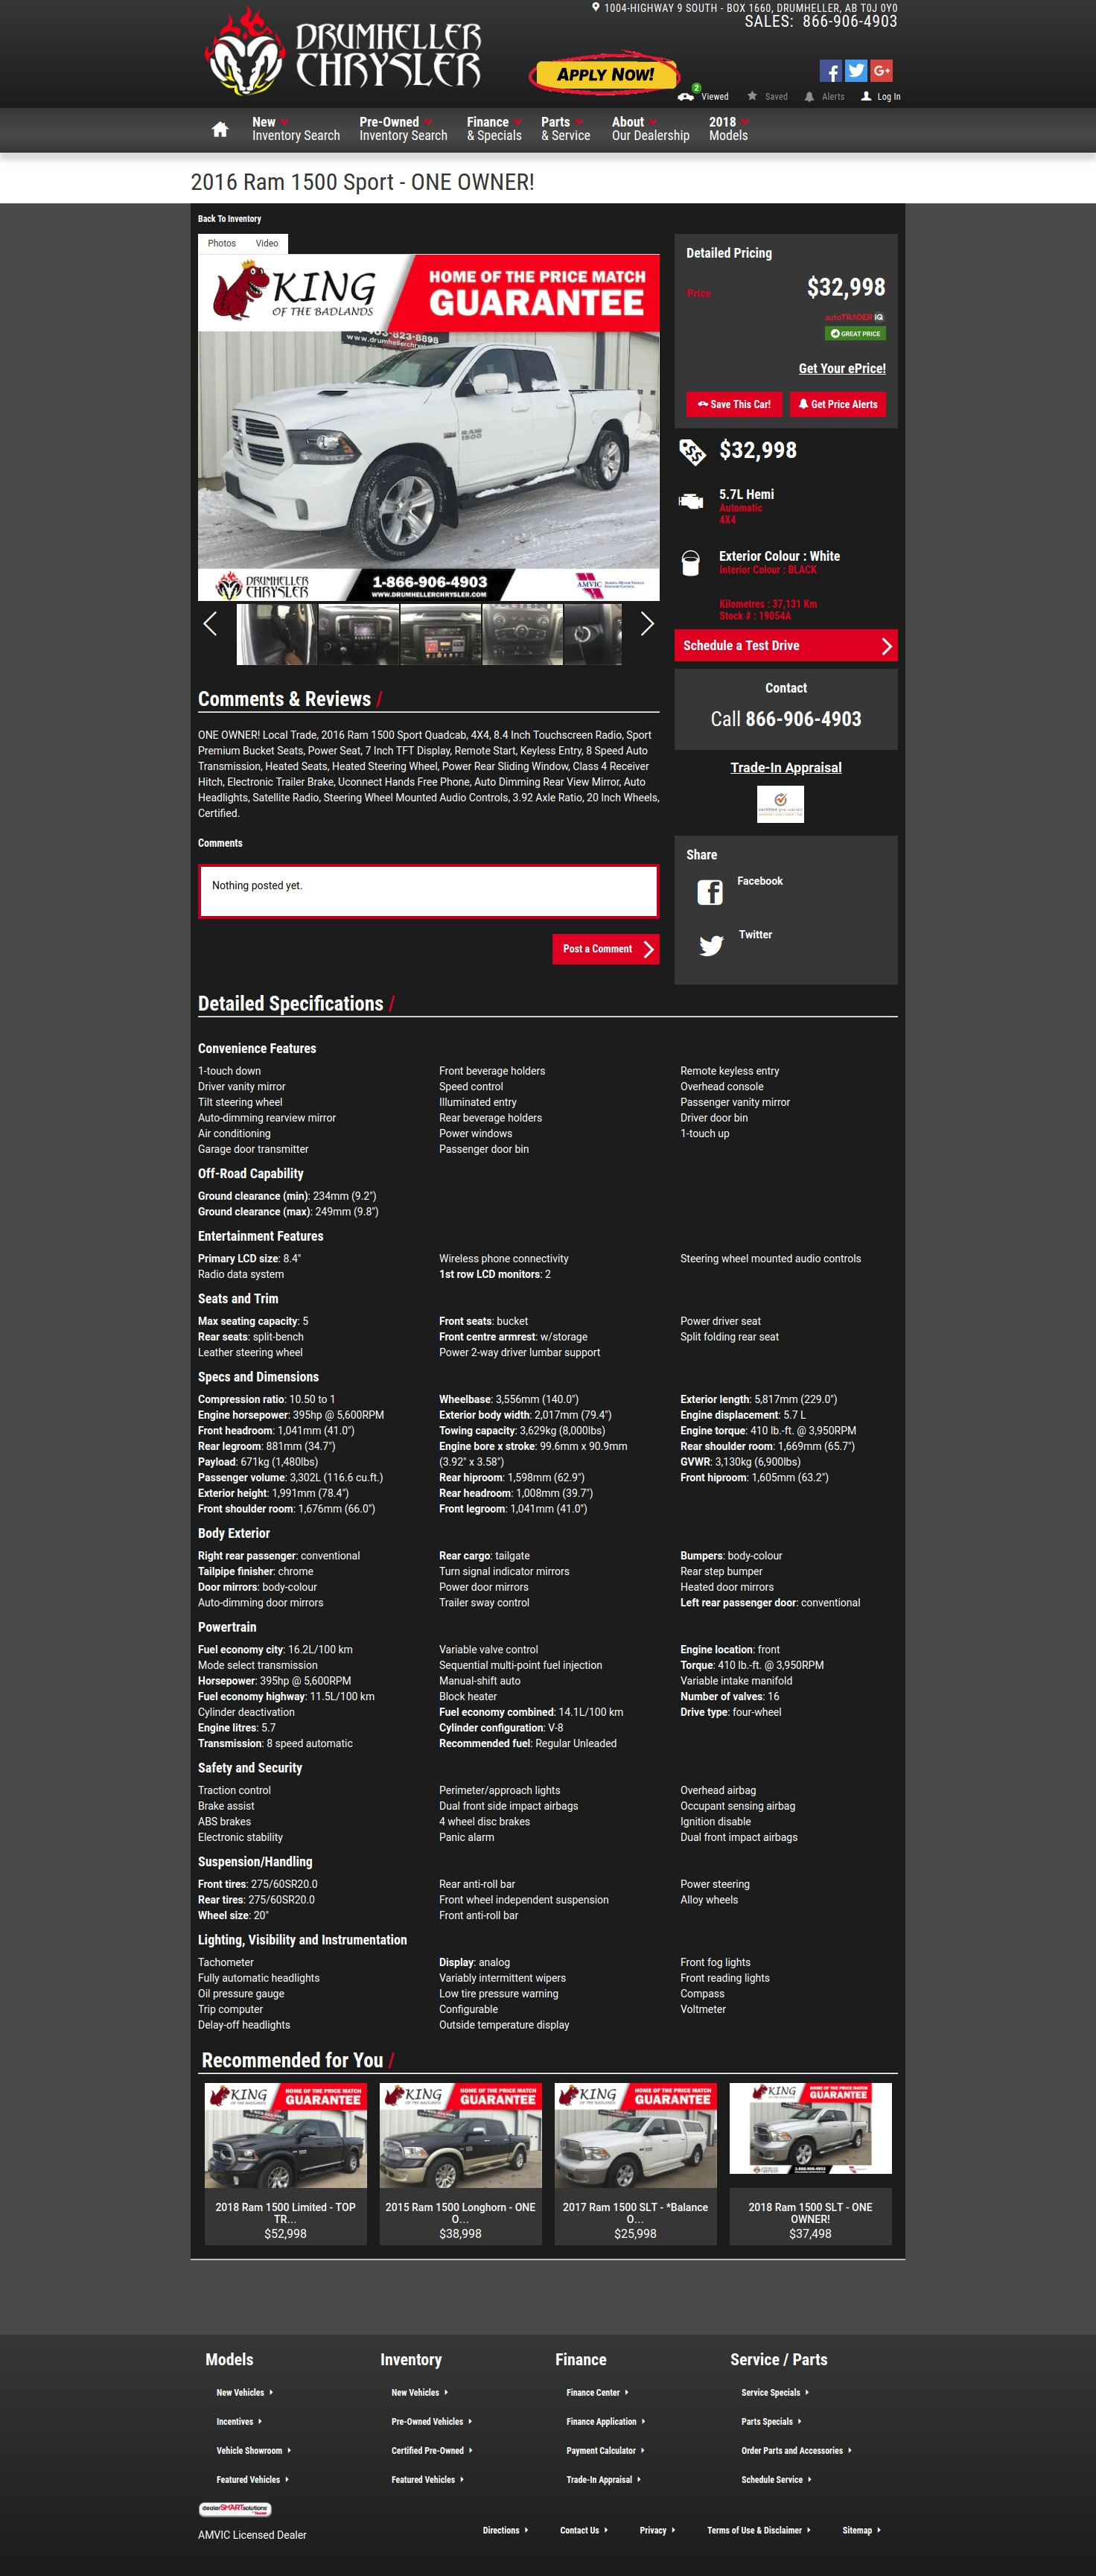car: (641, 613, 656, 637)
